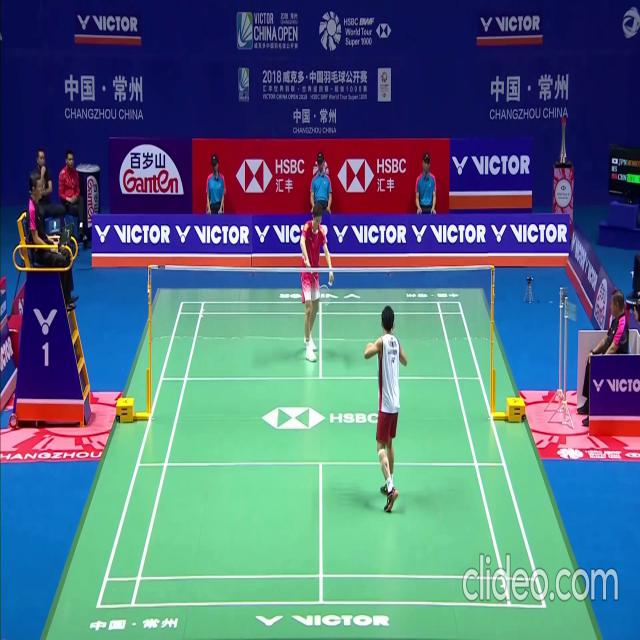Shuttlecock: (327, 280, 332, 287)
